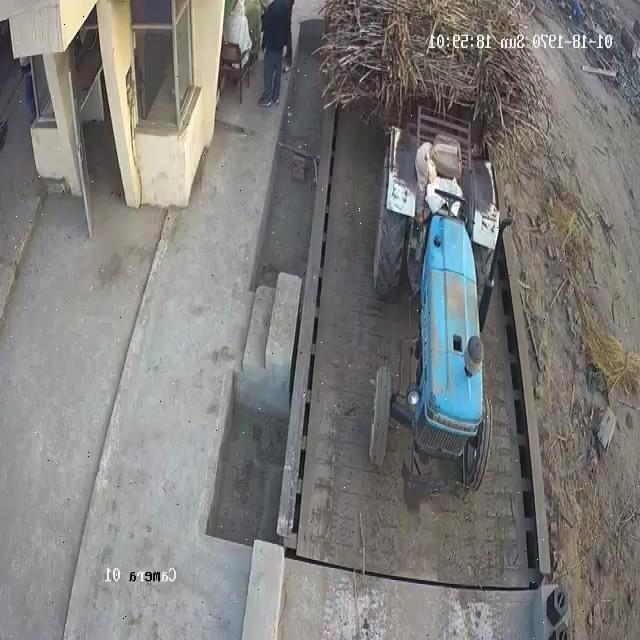Tratores - v5 YOLO V8L 2024-11-13: (365, 143, 494, 487)
